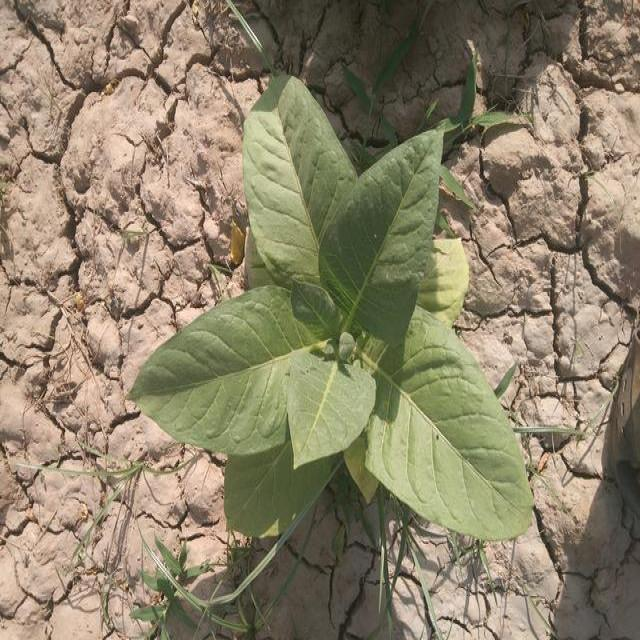crop: (125, 72, 538, 547)
